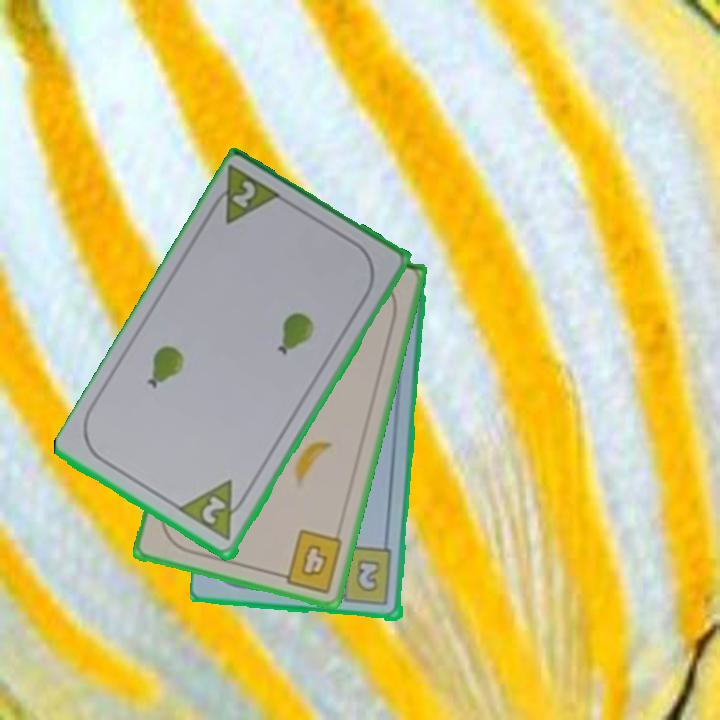2b: (330, 544, 396, 608)
2p: (204, 163, 287, 229), (176, 476, 253, 545)
4b: (272, 526, 346, 596)
